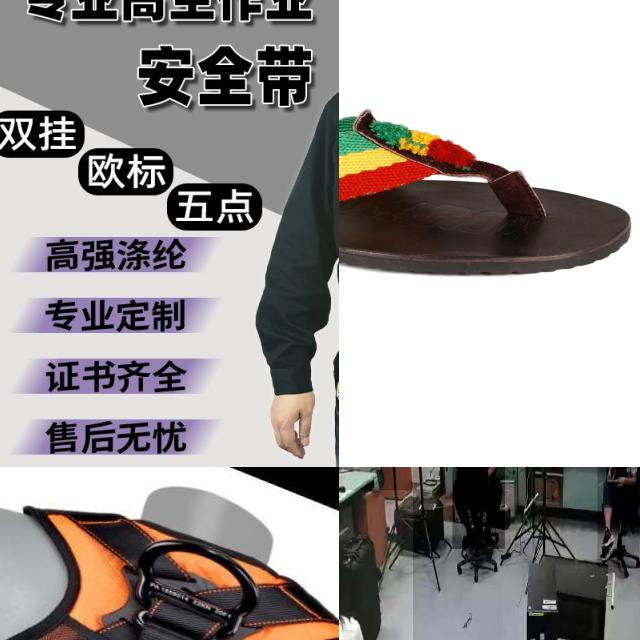Harness: (0, 483, 316, 640)
Sandals: (339, 107, 633, 277)
hand_noglove: (614, 475, 624, 488), (606, 468, 614, 481)
person: (339, 490, 413, 640), (452, 467, 505, 549), (597, 467, 640, 568)
shoes: (482, 528, 498, 554), (600, 524, 616, 550), (600, 540, 614, 568), (461, 523, 476, 549)
